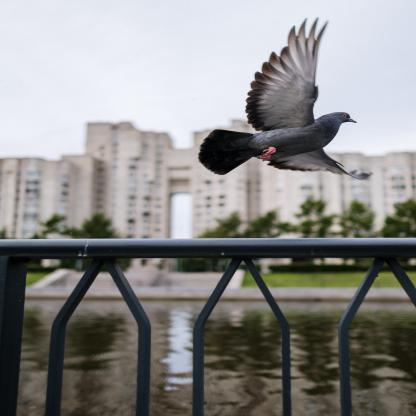bird: (198, 16, 366, 181)
